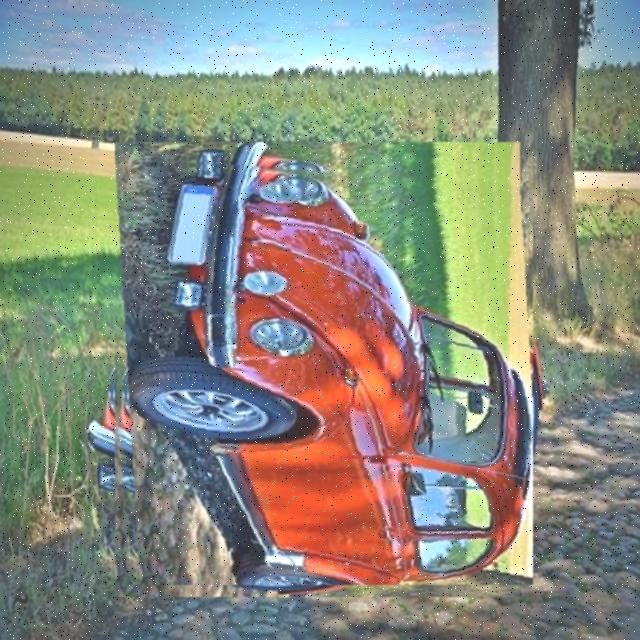car: (103, 156, 534, 586)
